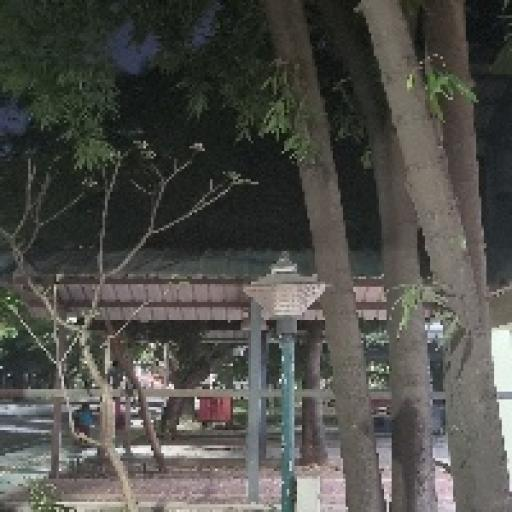Not Working: (223, 244, 344, 340)
